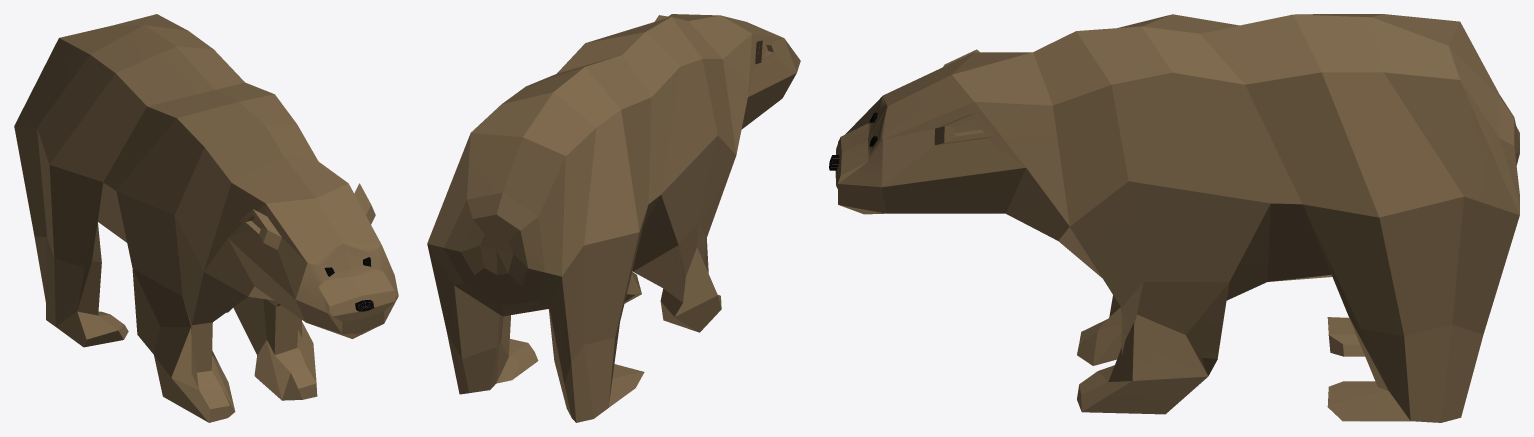
The model's file is Bear.fbx.
3 views of the same model, side by side, from view 1: azimuth 30°, elevation 25°; view 2: azimuth 150°, elevation 25°; view 3: azimuth 270°, elevation 25° (orthographic). The views are drawn at different scales.
Parts seen in each view (by area): view 1: Bear; view 2: Bear; view 3: Bear.
Boxes of the visible parts, x1,y1,x2,y2 form: Bear: (14,14,398,422); Bear: (427,14,800,422); Bear: (829,14,1519,422).
Size of the model in its own units: 26.41 by 41.52 by 70.76.
